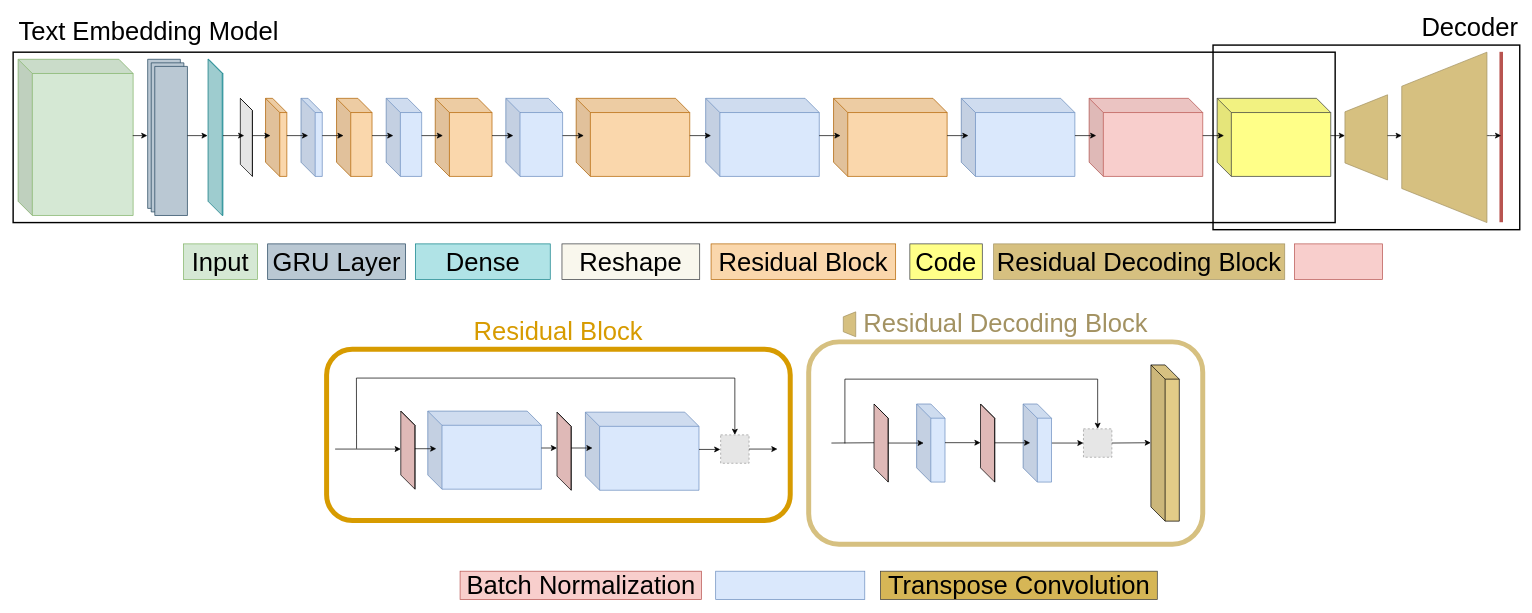
Image size: 1532x613. Some labels were removed from this diagram. Grey dashed boxes stand in for pictures. Here are the shapes that lost their labels. From the top down, the centre of each, then its label:
the point at 1338,261: Output
the point at 790,585: Convolution
